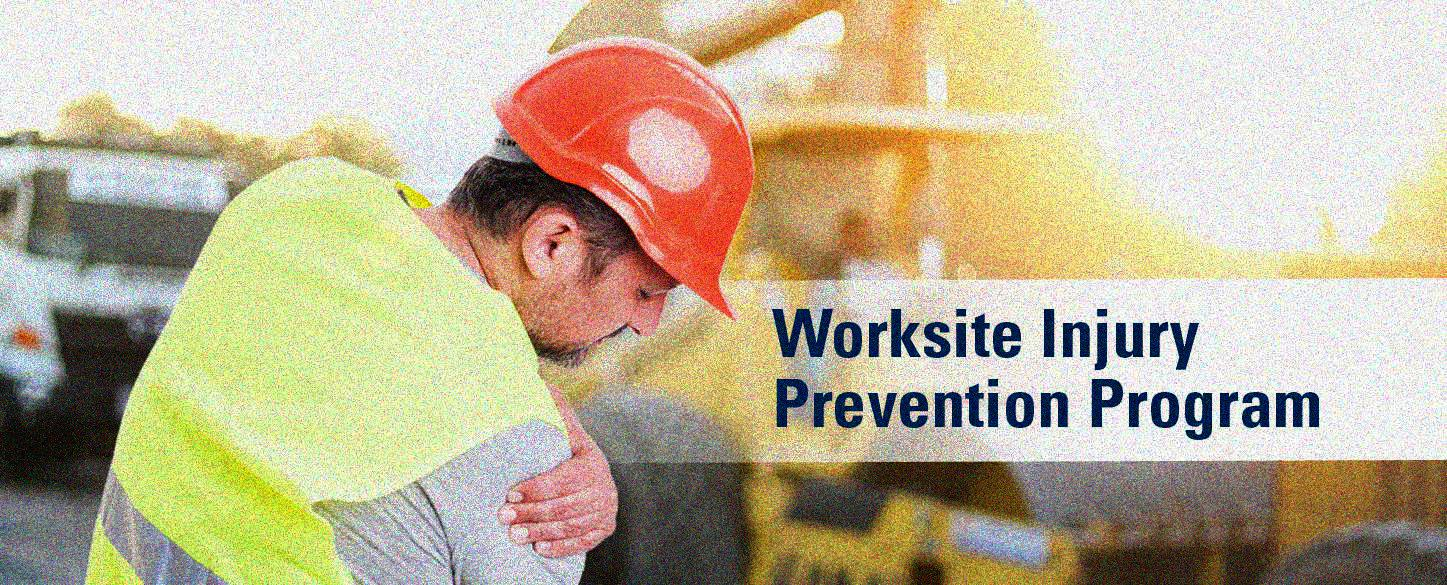helmet: (468, 33, 757, 358)
